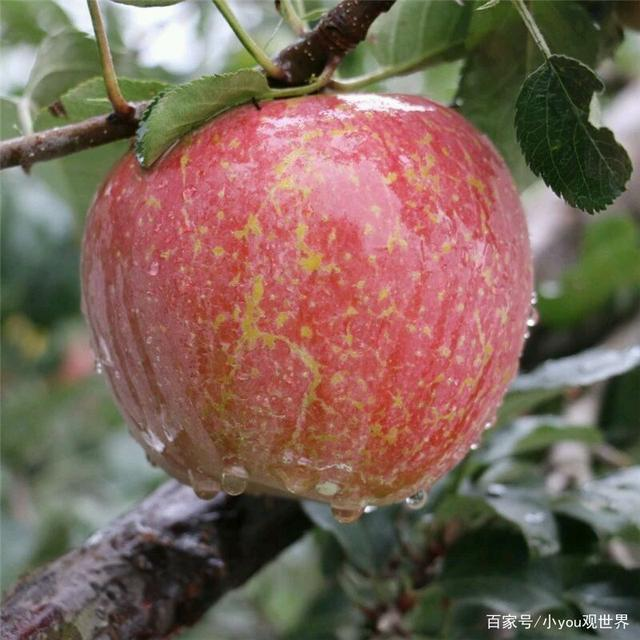apple: (81, 93, 532, 513)
